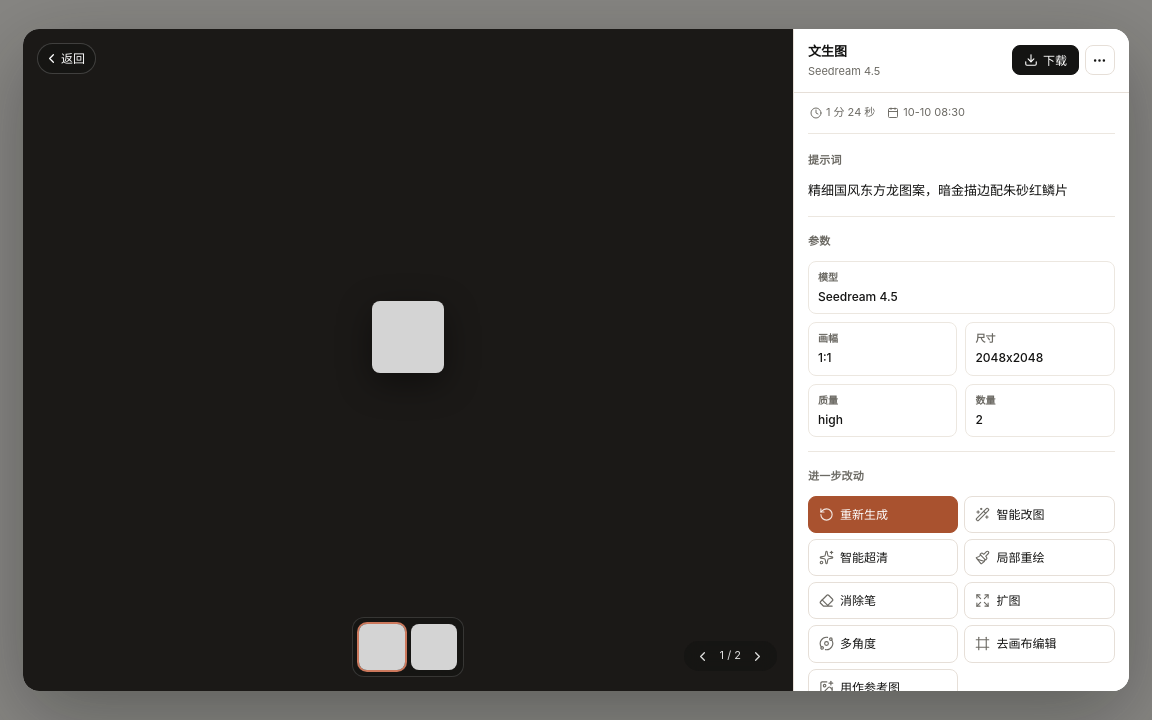
Test: AssetDetailPane › opens the lightbox from the stage and steps between results
The image size is (1152, 720).
Expected: the text "1 / 2" is shown, [720, 647, 741, 665]
Click the button named "下一张结果": (758,656) [747, 645, 769, 667]
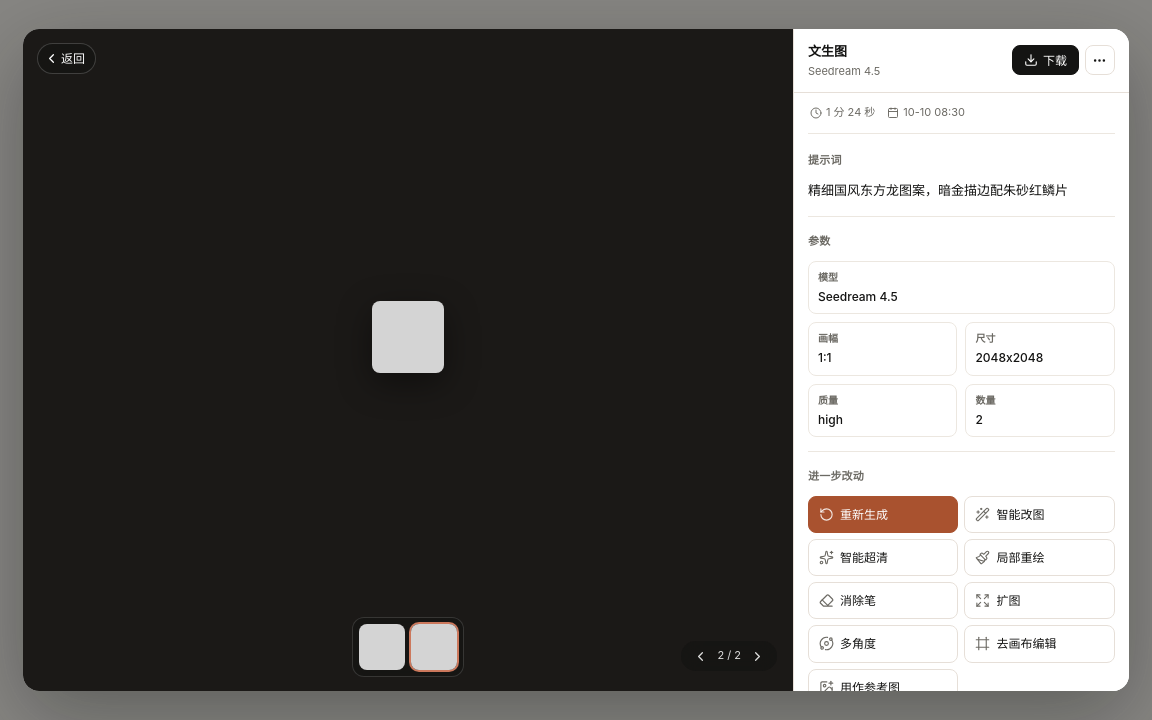
Now the text "2 / 2" is shown, box [717, 647, 741, 665]
Click the button named "放大预览这张图片": (88,337) [44, 50, 772, 625]
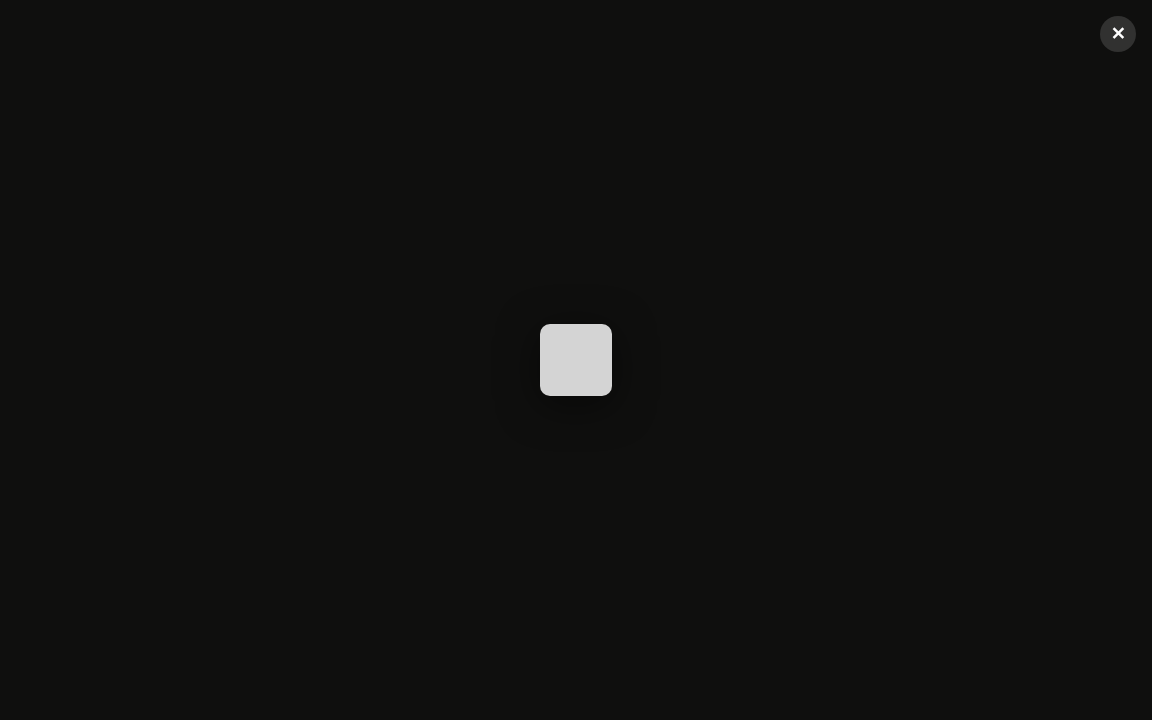
Now the dialog named "图片预览" is shown
